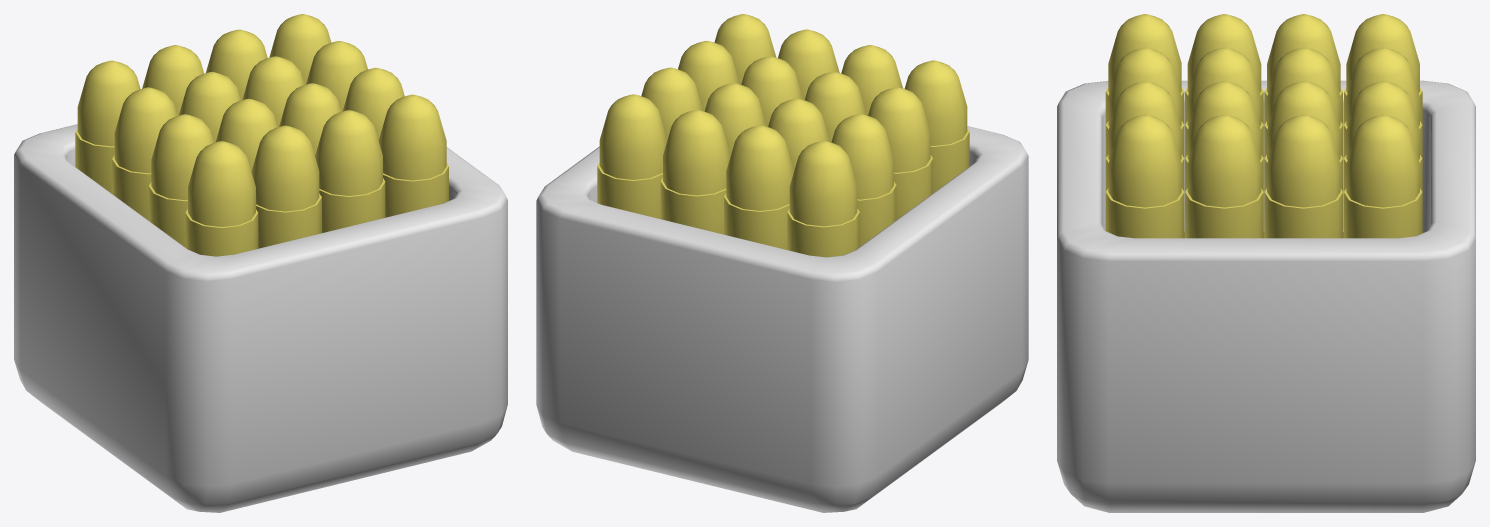
Rendered from BulletCube.fbx.
3 renders of one model, left to right at view 1: azimuth 30°, elevation 25°; view 2: azimuth 150°, elevation 25°; view 3: azimuth 270°, elevation 25°, orthographic. The views are drawn at different scales.
Parts seen in each view (by area): view 1: BulletCube; view 2: BulletCube; view 3: BulletCube.
Part boxes in pixels (x1,y1,x2,y2): BulletCube: [14, 14, 507, 512]; BulletCube: [536, 14, 1028, 512]; BulletCube: [1057, 14, 1475, 512].
Bounding box in the file's own units: 2000 × 1980 × 2000.
